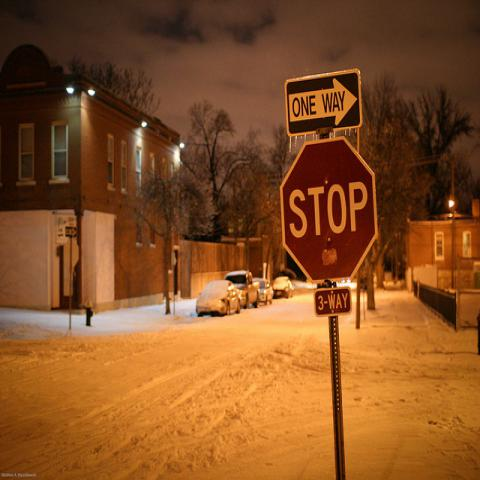car: (196, 280, 243, 317), (226, 269, 260, 309), (253, 277, 274, 306), (274, 276, 296, 300), (360, 277, 367, 289)
